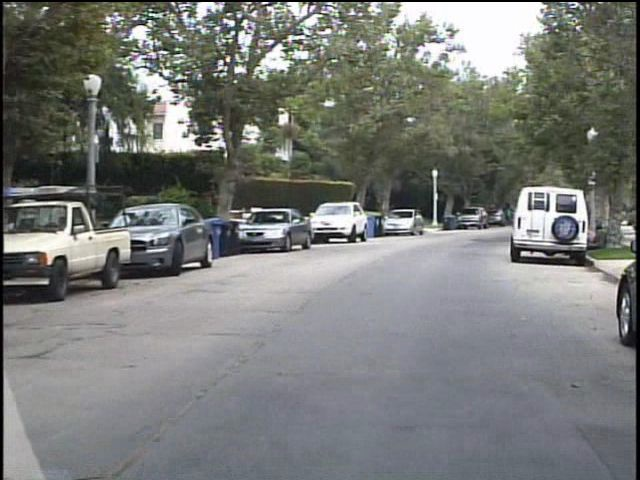person: (592, 222, 612, 254)
